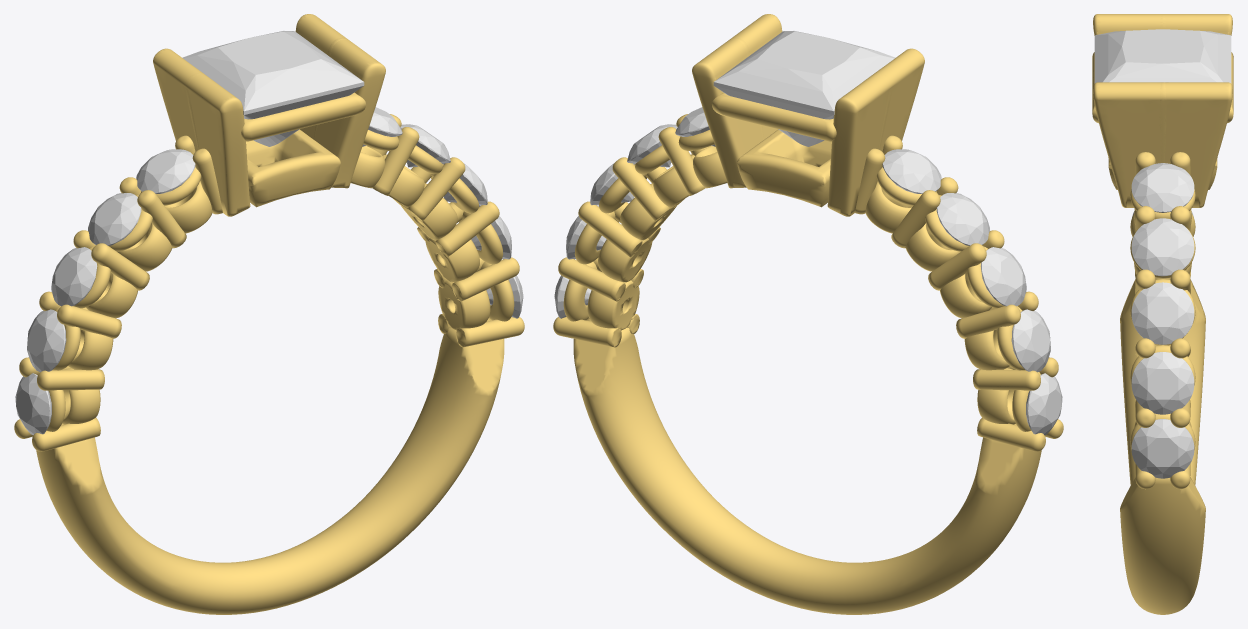
Rendered from diamond-princess-yellowgold-halfmoonbezel-taperedband-11stone.glb.
The picture shows the model from 3 angles, left to right: view 1: azimuth 30°, elevation 25°; view 2: azimuth 150°, elevation 25°; view 3: azimuth 270°, elevation 25°; orthographic projection.
Visible parts, largest first — view 1: metal, stone, side.004, side.003, side.005, side.002, side, side.007; view 2: metal, stone, side.004, side.003, side.005, side.002, side, side.007; view 3: metal, stone, side.009, side.008, side.007, side.001, side.006.
Part boxes in pixels (bbox=[...]): metal: bbox=[14, 14, 524, 614]; stone: bbox=[182, 31, 364, 146]; side.004: bbox=[88, 193, 141, 245]; side.003: bbox=[51, 247, 97, 306]; side.005: bbox=[136, 149, 195, 193]; side.002: bbox=[27, 309, 66, 372]; side: bbox=[15, 373, 51, 435]; side.007: bbox=[400, 124, 450, 167]; metal: bbox=[553, 14, 1063, 614]; stone: bbox=[713, 31, 895, 146]; side.004: bbox=[936, 193, 989, 245]; side.003: bbox=[980, 247, 1026, 306]; side.005: bbox=[882, 149, 941, 193]; side.002: bbox=[1011, 309, 1050, 372]; side: bbox=[1026, 373, 1062, 435]; side.007: bbox=[627, 124, 677, 167]; metal: bbox=[1092, 14, 1233, 614]; stone: bbox=[1094, 29, 1231, 83]; side.009: bbox=[1131, 352, 1194, 414]; side.008: bbox=[1131, 282, 1194, 344]; side.007: bbox=[1131, 218, 1194, 276]; side.001: bbox=[1131, 419, 1194, 478]; side.006: bbox=[1131, 163, 1194, 212].
Bounding box in the file's own units: 22.23 × 23.85 × 5.6.
